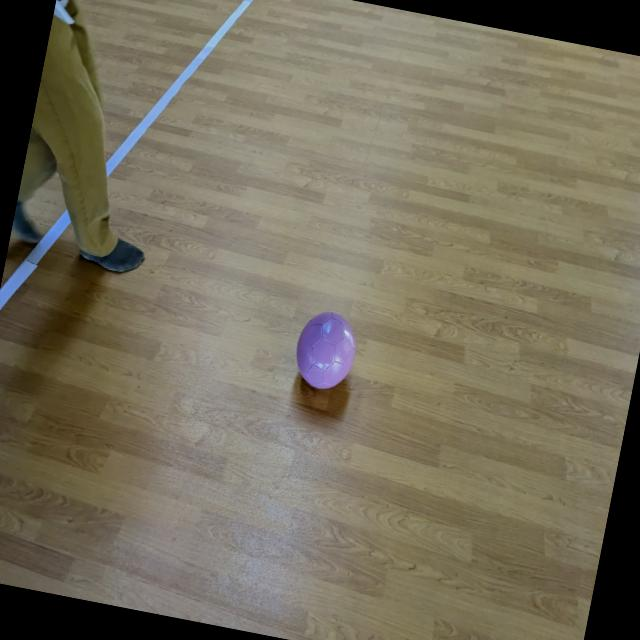purple_ball: (290, 306, 363, 396)
